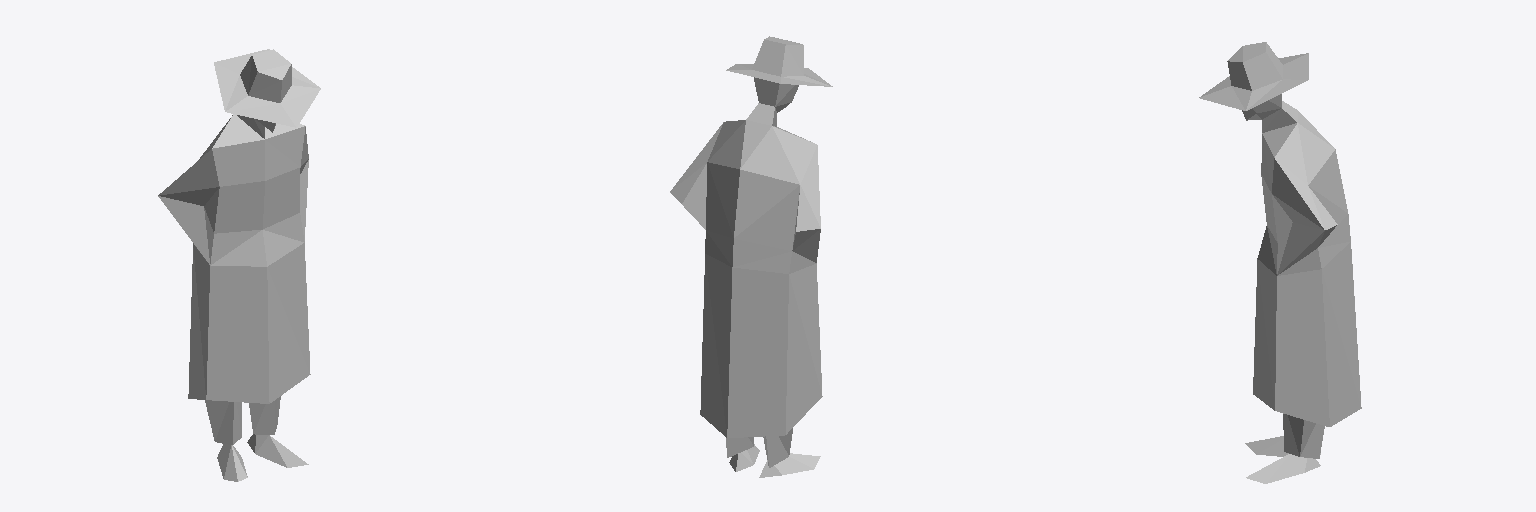
The model's file is hatman.obj.
3 views of the same model, side by side, from view 1: azimuth 30°, elevation 25°; view 2: azimuth 150°, elevation 25°; view 3: azimuth 270°, elevation 25° (orthographic).
Parts seen in each view (by area): view 1: Hatman; view 2: Hatman; view 3: Hatman.
Boxes of the visible parts, <box> form: Hatman: <box>158,49,320,481</box>; Hatman: <box>670,36,832,477</box>; Hatman: <box>1199,42,1361,483</box>.
Bounding box in the file's own units: 46.4 × 123 × 43.4.